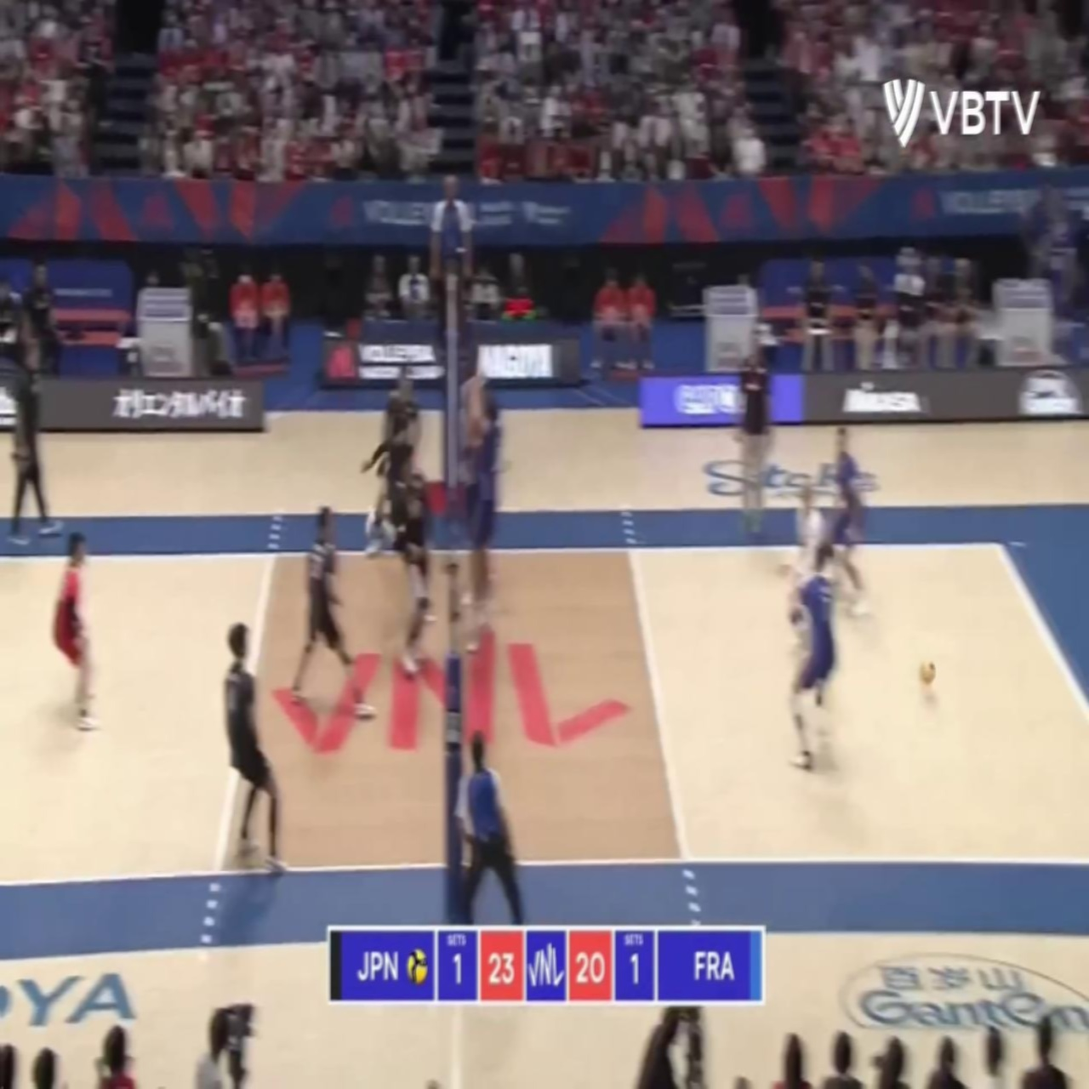ball: (916, 659, 936, 687)
